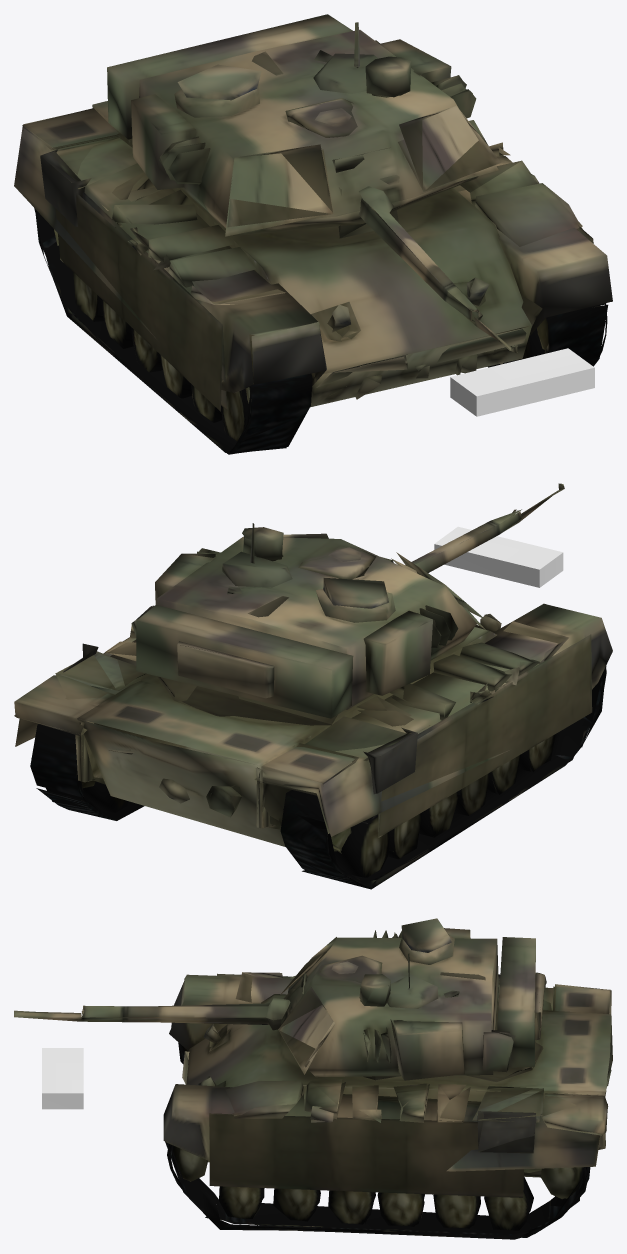
The model's file is cn-type-99a.glb.
3 renders of one model, top to bottom at view 1: azimuth 30°, elevation 25°; view 2: azimuth 150°, elevation 25°; view 3: azimuth 270°, elevation 25°, orthographic. The views are drawn at different scales.
Visible parts, largest first — view 1: cn-type-99a, turret; view 2: cn-type-99a, turret; view 3: cn-type-99a, turret.
Boxes of the visible parts, <box> form: cn-type-99a: <box>14,40,612,454</box>; turret: <box>107,14,521,353</box>; cn-type-99a: <box>14,526,612,889</box>; turret: <box>131,483,564,718</box>; cn-type-99a: <box>42,972,612,1239</box>; turret: <box>14,918,544,1104</box>.
Size of the model in its own units: 0.688 by 0.4913 by 1.12.
Materials: 2 (1 with a texture image).
